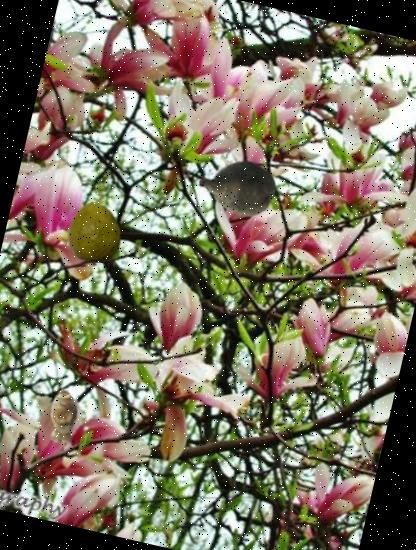Beetroot: (188, 138, 284, 234)
Ginger: (29, 382, 99, 452)
Guava: (58, 196, 132, 270)
